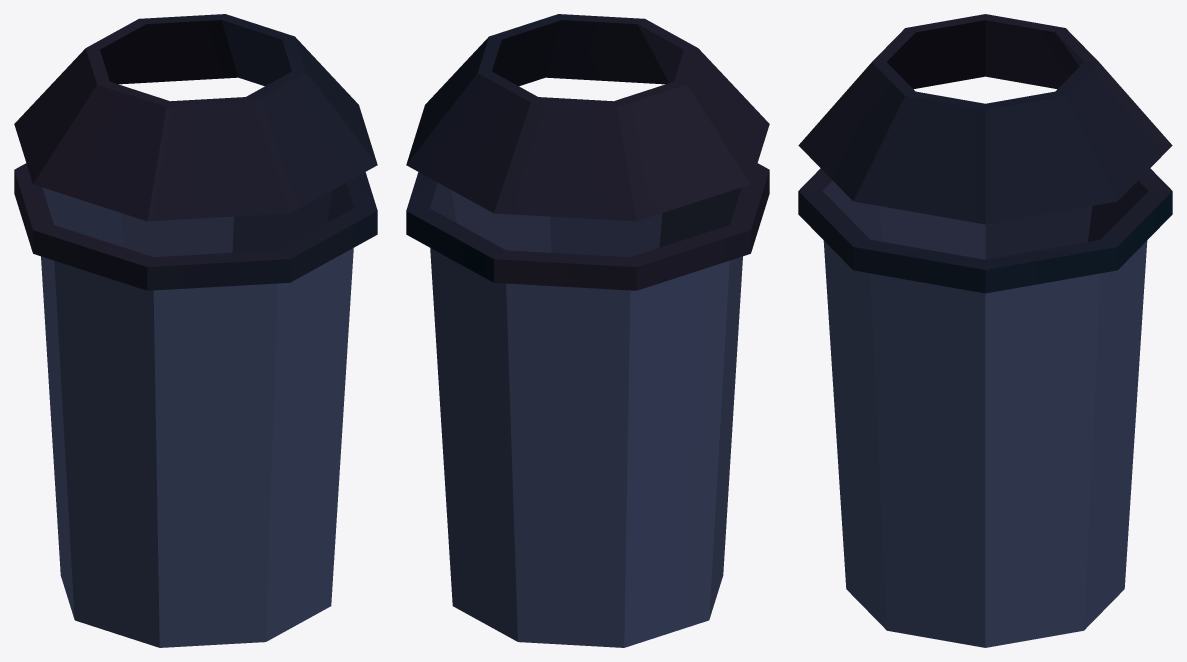
Rendered from Lixeira.fbx.
3 renders of one model, left to right at view 1: azimuth 30°, elevation 25°; view 2: azimuth 150°, elevation 25°; view 3: azimuth 270°, elevation 25°, orthographic.
Visible parts, largest first — view 1: Lixeira; view 2: Lixeira; view 3: Lixeira.
Part boxes in pixels (bbox=[...]): Lixeira: bbox=[14, 14, 377, 647]; Lixeira: bbox=[406, 14, 769, 647]; Lixeira: bbox=[798, 14, 1172, 647].
Bounding box in the file's own units: 113 × 113 × 175.
